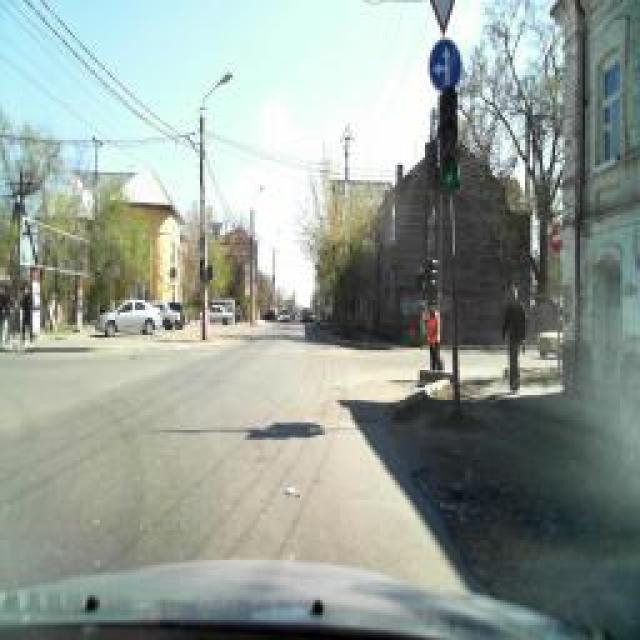sign: (549, 220, 566, 255)
